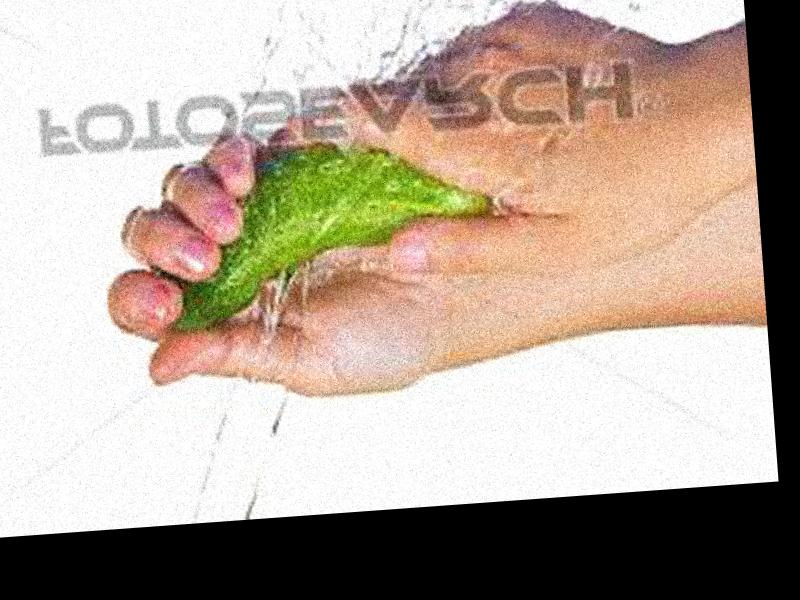Cucumber: (157, 125, 508, 333)
